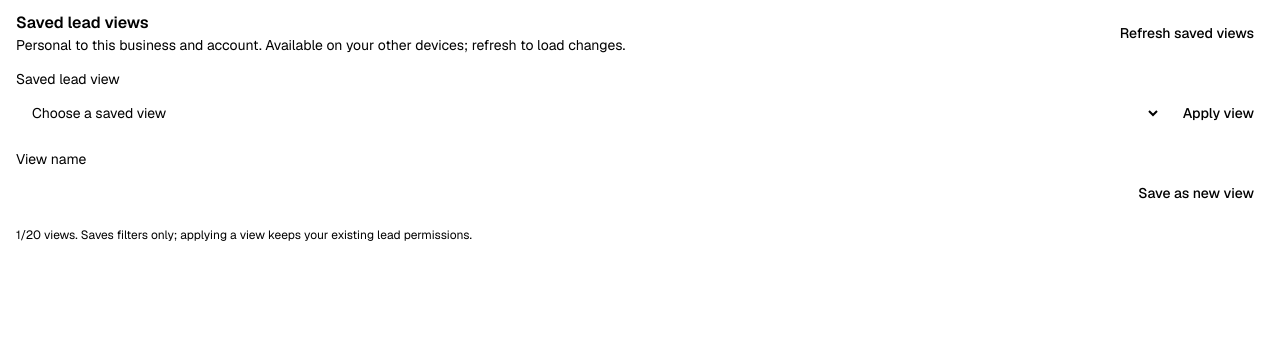
Test: sends its expected account and clears private controls when that account changed before a write
This screenshot has width=1280, height=346.
Select "New prospects" in the dropdown labelled "Saved lead view" at point(588, 113), box [16,91,1161,135]
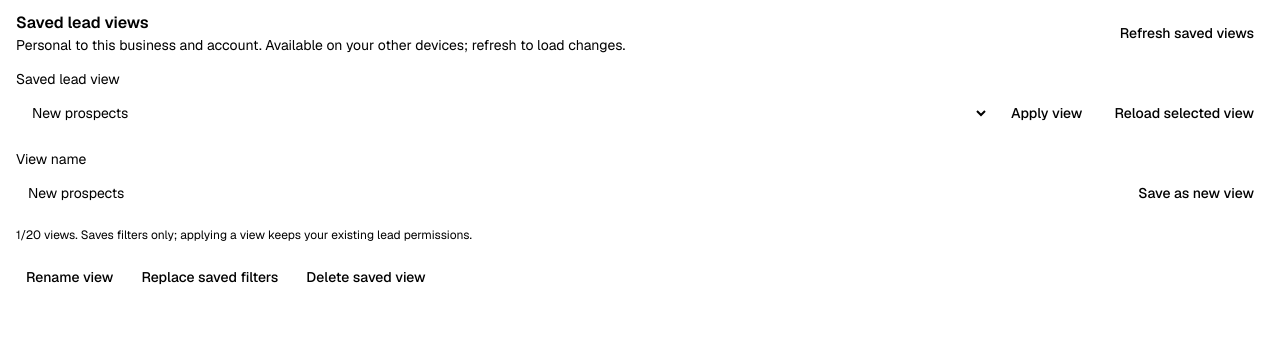
Replace the text in the field labelled "View name" with "Old account rename" at point(566, 193), box [16,171,1116,215]
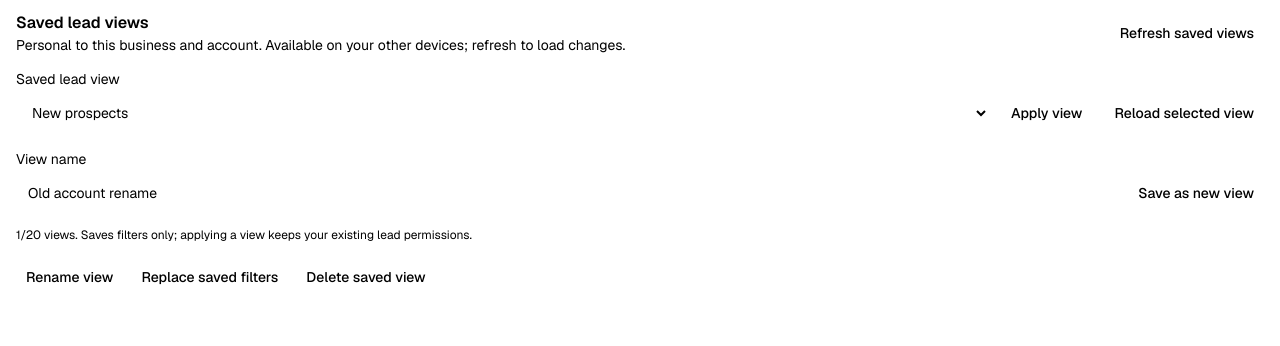
Click the button "Rename view" at point(70, 277), box [16,255,123,299]
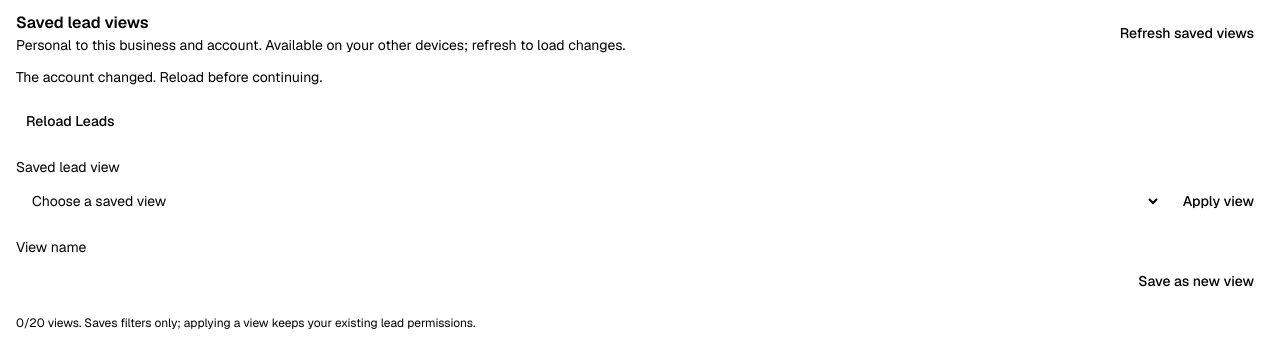
Expected: the option "New prospects" is not shown
Expected: the message shows "Reload", [16,68,322,86]
Expected: the button "Save as new view" is disabled, [1128,259,1264,303]
